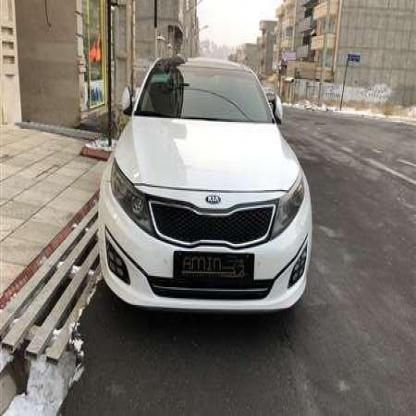Car: (98, 57, 314, 327)
